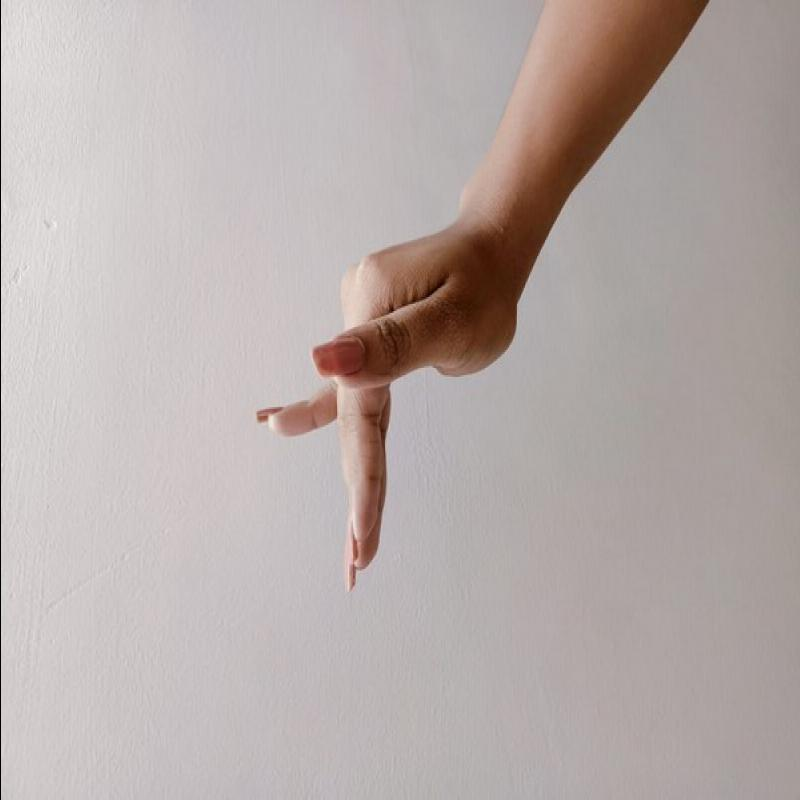Kartharee Mukham: (247, 213, 535, 603)
